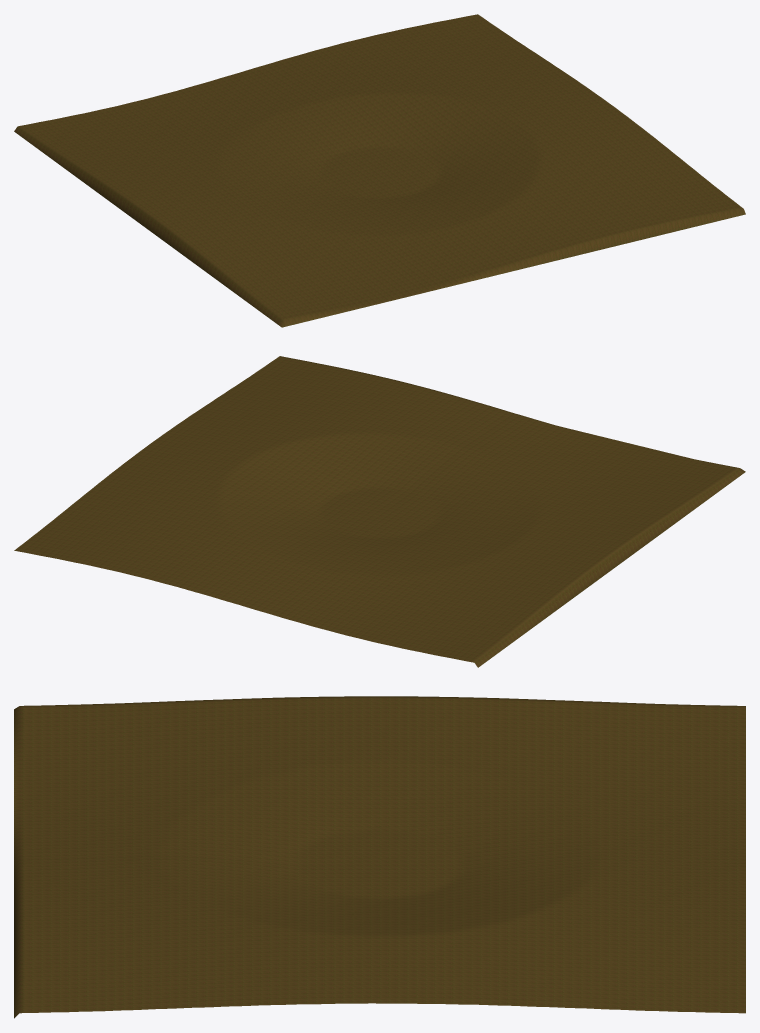
File: courtyard_ground.glb
3 views of the same model, one above another, from view 1: azimuth 30°, elevation 25°; view 2: azimuth 150°, elevation 25°; view 3: azimuth 270°, elevation 25° (orthographic). The views are drawn at different scales.
Visible parts, largest first — view 1: Soil; view 2: Soil; view 3: Soil.
Part boxes in pixels (<box>): Soil: <box>14,14,745,327</box>; Soil: <box>14,356,745,667</box>; Soil: <box>14,696,745,1018</box>.
Bounding box in the file's own units: 160 × 4.95 × 160.
1 material, 1 textured.
